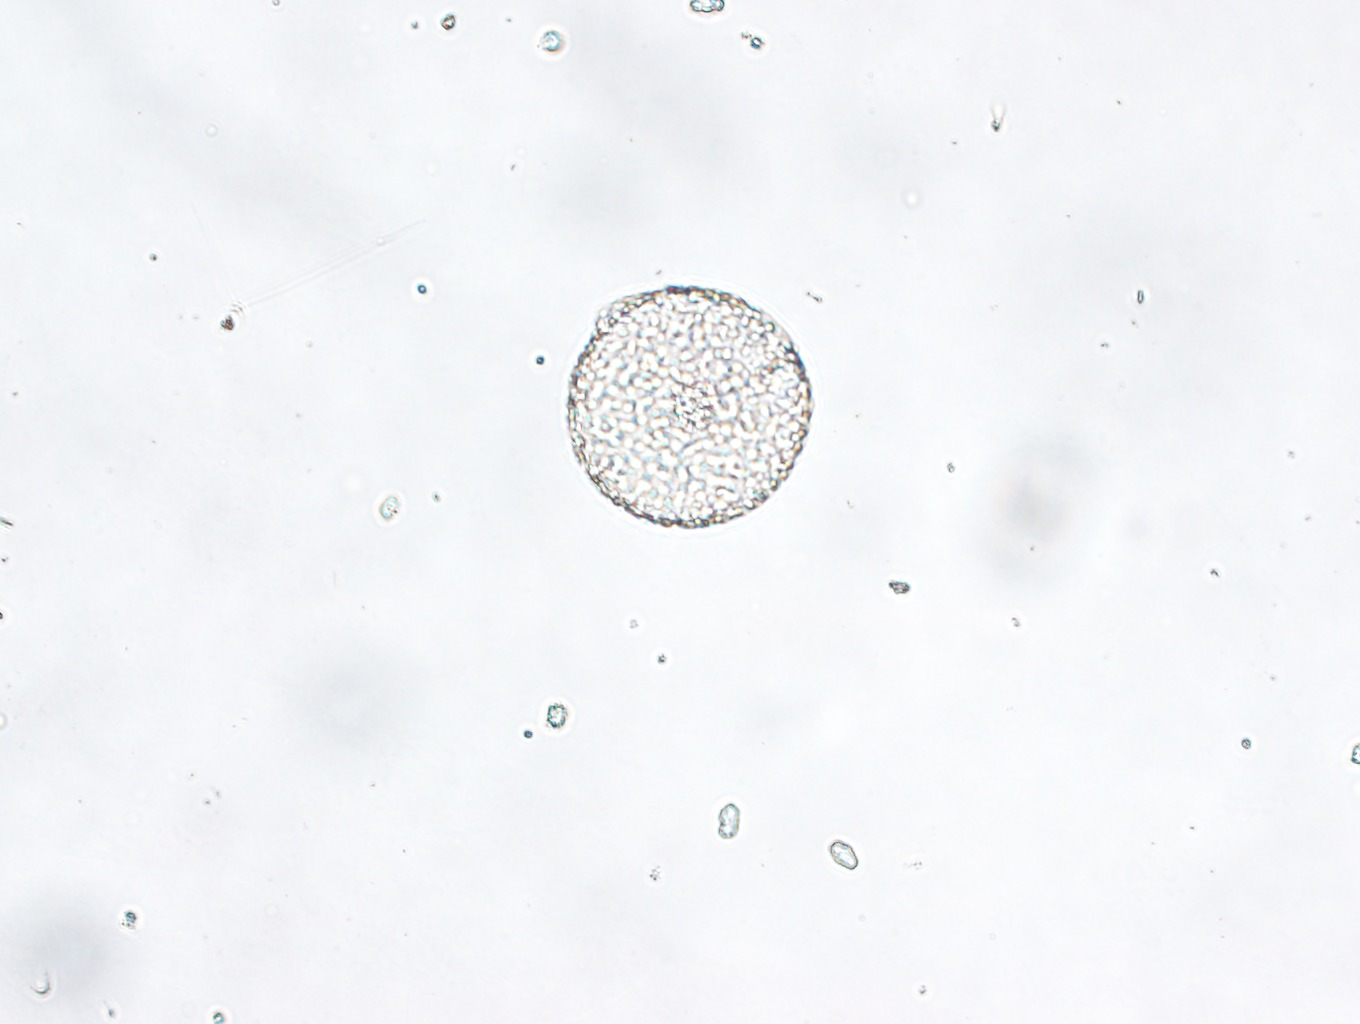coscinodiscus: (563, 281, 811, 532)
